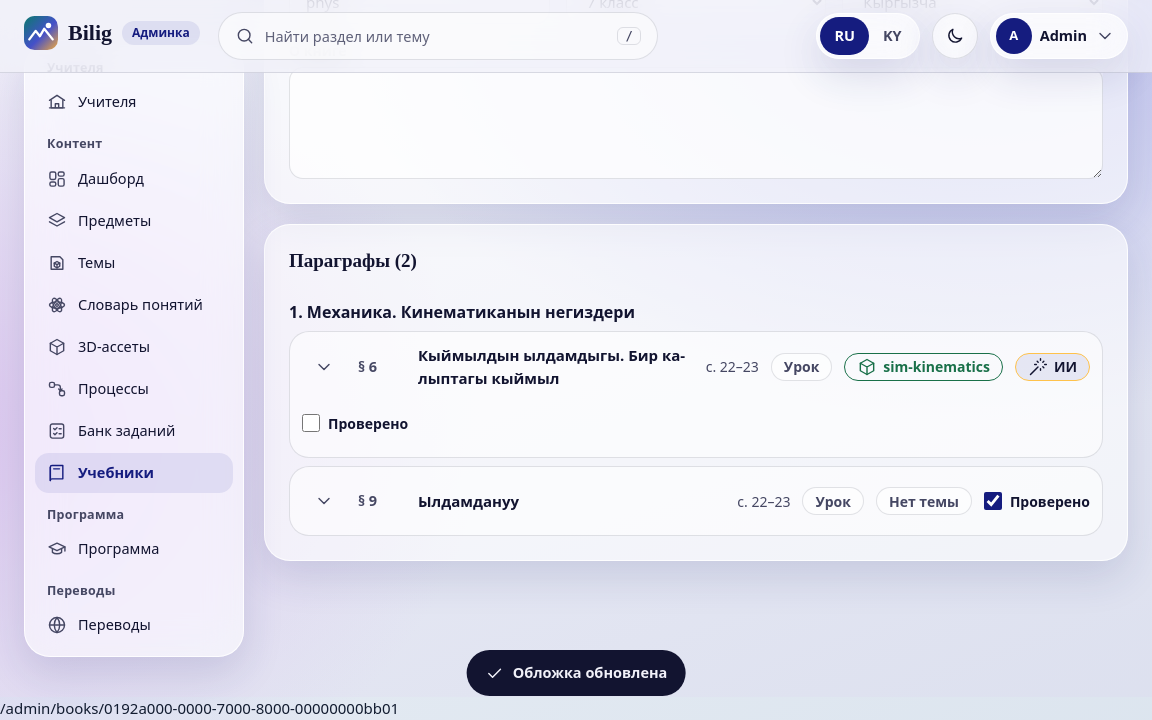
Test: books: the book page › without content.publish there is no Publish / Archive
This screenshot has width=1152, height=720.
(page scrolled)
What coordinates should you click on to do the following:
click the button named "Раскрыть"
I would click on:
 (324, 367)
Its box is [302,345,346,389].
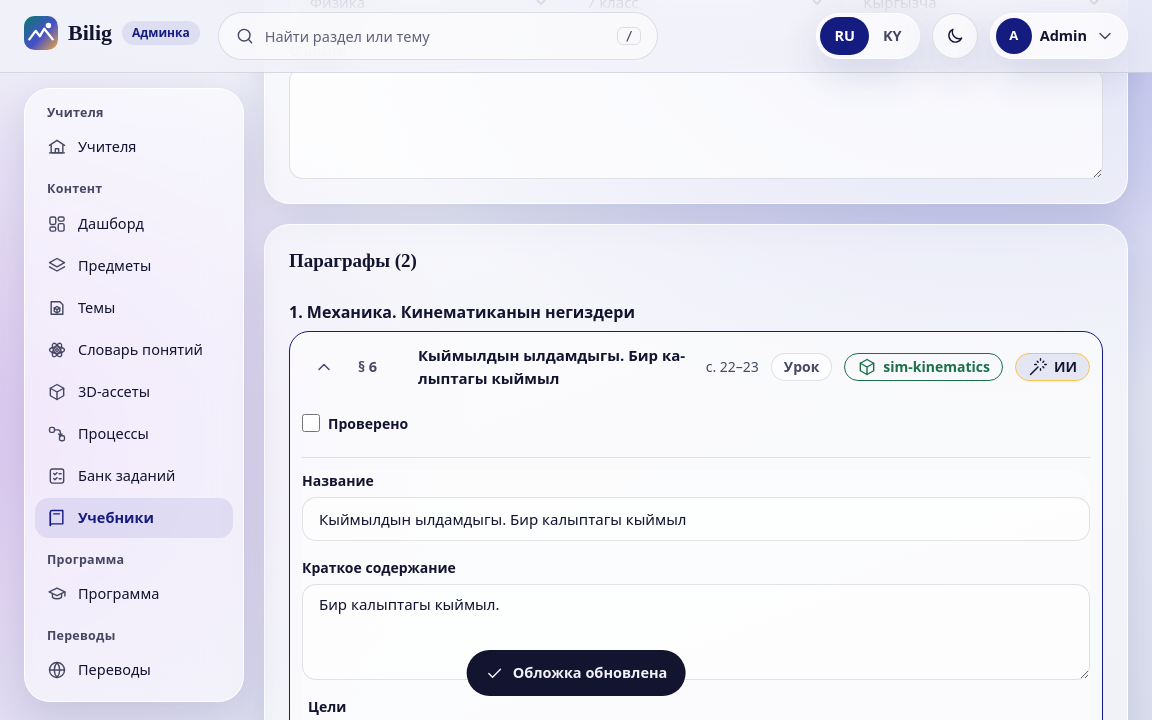
Result: the text box labelled "Краткое содержание" is enabled at [302,584,1090,680]
